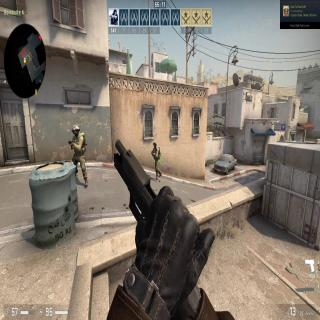CT-Body: (66, 126, 88, 180), (152, 141, 160, 172)
CT-Head: (72, 124, 79, 135), (153, 142, 157, 148)
